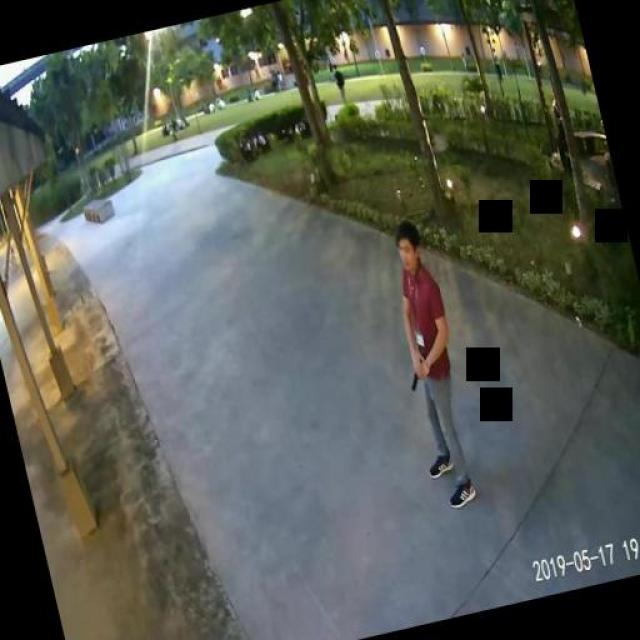gun: (402, 358, 428, 392)
